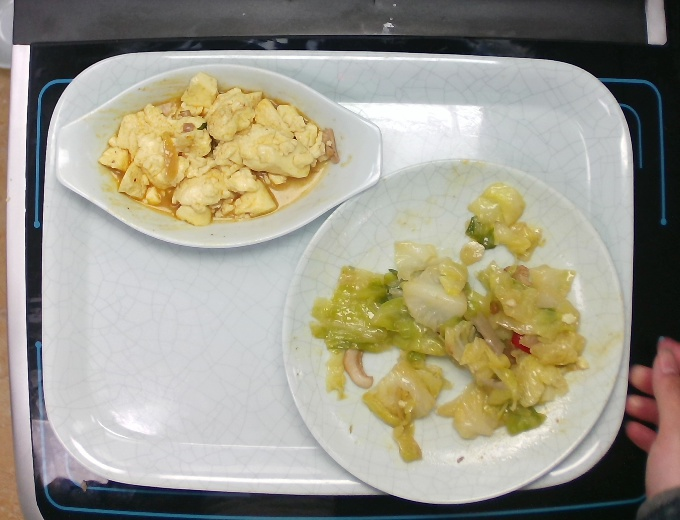JYsf-Da_Yuan_Pan: (278, 157, 627, 506)
JYsf-Yu_Pan: (50, 60, 385, 249)
